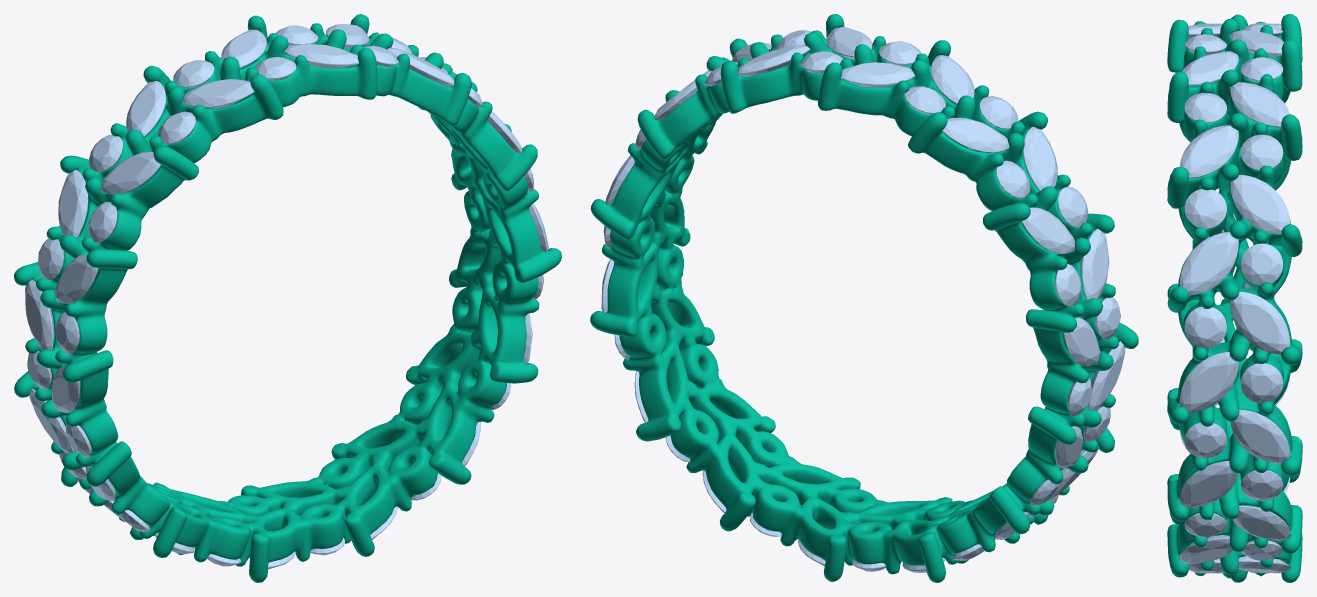
Rendered from BE2D836LC_RENDER.glb.
3 views of the same model, side by side, from view 1: azimuth 30°, elevation 25°; view 2: azimuth 150°, elevation 25°; view 3: azimuth 270°, elevation 25° (orthographic).
Parts seen in each view (by area): view 1: /BE2D836LC.3dm, Diamond_Marquise_Gem_BD.022, Diamond_Marquise_Gem_BD.023, Diamond_Marquise_Gem_BD.025, Diamond_Marquise_Gem_BD.024, Diamond_Marquise_Gem_BD.021, Diamond_Marquise_Gem_BD.020, Diamond_Marquise_Gem_BD.026, Diamond_Marquise_Gem_BD.027, Diamond_Round_Gem_BD.022, Diamond_Marquise_Gem_BD.019, Diamond_Round_Gem_BD.023 (+7 smaller); view 2: /BE2D836LC.3dm, Diamond_Marquise_Gem_BD.023, Diamond_Marquise_Gem_BD.024, Diamond_Marquise_Gem_BD.022, Diamond_Marquise_Gem_BD.021, Diamond_Marquise_Gem_BD.027, Diamond_Marquise_Gem_BD.025, Diamond_Marquise_Gem_BD.020, Diamond_Marquise_Gem_BD.019, Diamond_Marquise_Gem_BD, Diamond_Round_Gem_BD.023, Diamond_Marquise_Gem_BD.026 (+7 smaller); view 3: /BE2D836LC.3dm, Diamond_Marquise_Gem_BD.003, Diamond_Marquise_Gem_BD.004, Diamond_Marquise_Gem_BD.005, Diamond_Marquise_Gem_BD.002, Diamond_Marquise_Gem_BD.006, Diamond_Marquise_Gem_BD.001, Diamond_Marquise_Gem_BD.007, Diamond_Marquise_Gem_BD, Diamond_Round_Gem_BD.005, Diamond_Round_Gem_BD.002, Diamond_Round_Gem_BD.004 (+17 smaller).
Part boxes in pixels (x1=…): /BE2D836LC.3dm: x1=14, y1=14, x2=561, y2=582; Diamond_Marquise_Gem_BD.022: x1=58, y1=169, x2=88, y2=237; Diamond_Marquise_Gem_BD.023: x1=101, y1=152, x2=160, y2=194; Diamond_Marquise_Gem_BD.025: x1=182, y1=79, x2=254, y2=108; Diamond_Marquise_Gem_BD.024: x1=126, y1=81, x2=166, y2=136; Diamond_Marquise_Gem_BD.021: x1=54, y1=254, x2=98, y2=303; Diamond_Marquise_Gem_BD.020: x1=25, y1=279, x2=54, y2=350; Diamond_Marquise_Gem_BD.026: x1=284, y1=44, x2=358, y2=68; Diamond_Marquise_Gem_BD.027: x1=221, y1=29, x2=266, y2=67; Diamond_Round_Gem_BD.022: x1=89, y1=134, x2=122, y2=171; Diamond_Marquise_Gem_BD.019: x1=52, y1=366, x2=80, y2=413; Diamond_Round_Gem_BD.023: x1=88, y1=202, x2=117, y2=242; /BE2D836LC.3dm: x1=590, y1=14, x2=1138, y2=582; Diamond_Marquise_Gem_BD.023: x1=1023, y1=127, x2=1057, y2=190; Diamond_Marquise_Gem_BD.024: x1=942, y1=117, x2=1009, y2=152; Diamond_Marquise_Gem_BD.022: x1=1021, y1=207, x2=1074, y2=253; Diamond_Marquise_Gem_BD.021: x1=1081, y1=228, x2=1109, y2=299; Diamond_Marquise_Gem_BD.027: x1=840, y1=62, x2=915, y2=87; Diamond_Marquise_Gem_BD.025: x1=931, y1=55, x2=974, y2=104; Diamond_Marquise_Gem_BD.020: x1=1063, y1=317, x2=1100, y2=366; Diamond_Marquise_Gem_BD.019: x1=1088, y1=341, x2=1125, y2=410; Diamond_Marquise_Gem_BD: x1=738, y1=45, x2=810, y2=76; Diamond_Round_Gem_BD.023: x1=1057, y1=186, x2=1088, y2=227; Diamond_Marquise_Gem_BD.026: x1=826, y1=26, x2=872, y2=59; /BE2D836LC.3dm: x1=1167, y1=14, x2=1302, y2=582; Diamond_Marquise_Gem_BD.003: x1=1179, y1=232, x2=1238, y2=295; Diamond_Marquise_Gem_BD.004: x1=1230, y1=291, x2=1289, y2=354; Diamond_Marquise_Gem_BD.005: x1=1179, y1=352, x2=1238, y2=412; Diamond_Marquise_Gem_BD.002: x1=1230, y1=175, x2=1289, y2=234; Diamond_Marquise_Gem_BD.006: x1=1230, y1=409, x2=1289, y2=463; Diamond_Marquise_Gem_BD.001: x1=1180, y1=125, x2=1238, y2=178; Diamond_Marquise_Gem_BD.007: x1=1179, y1=461, x2=1238, y2=507; Diamond_Marquise_Gem_BD: x1=1230, y1=82, x2=1289, y2=127; Diamond_Round_Gem_BD.005: x1=1184, y1=306, x2=1226, y2=348; Diamond_Round_Gem_BD.002: x1=1240, y1=243, x2=1283, y2=285; Diamond_Round_Gem_BD.004: x1=1240, y1=363, x2=1283, y2=403.
Bounding box in the file's own units: 20.23 × 20.13 × 4.8.
